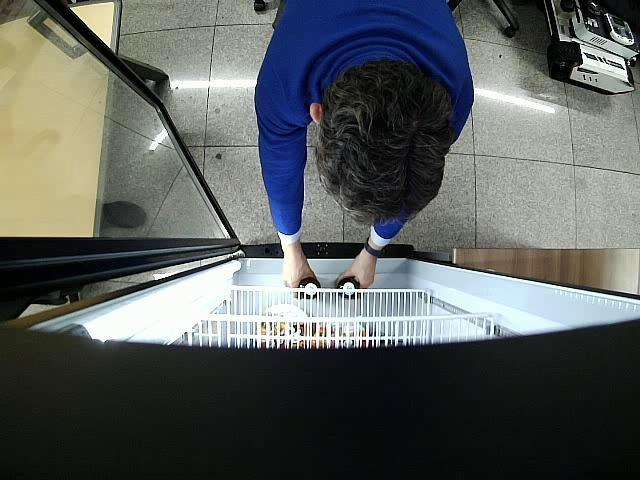19_17cha: (337, 276, 360, 300), (298, 278, 321, 300)
